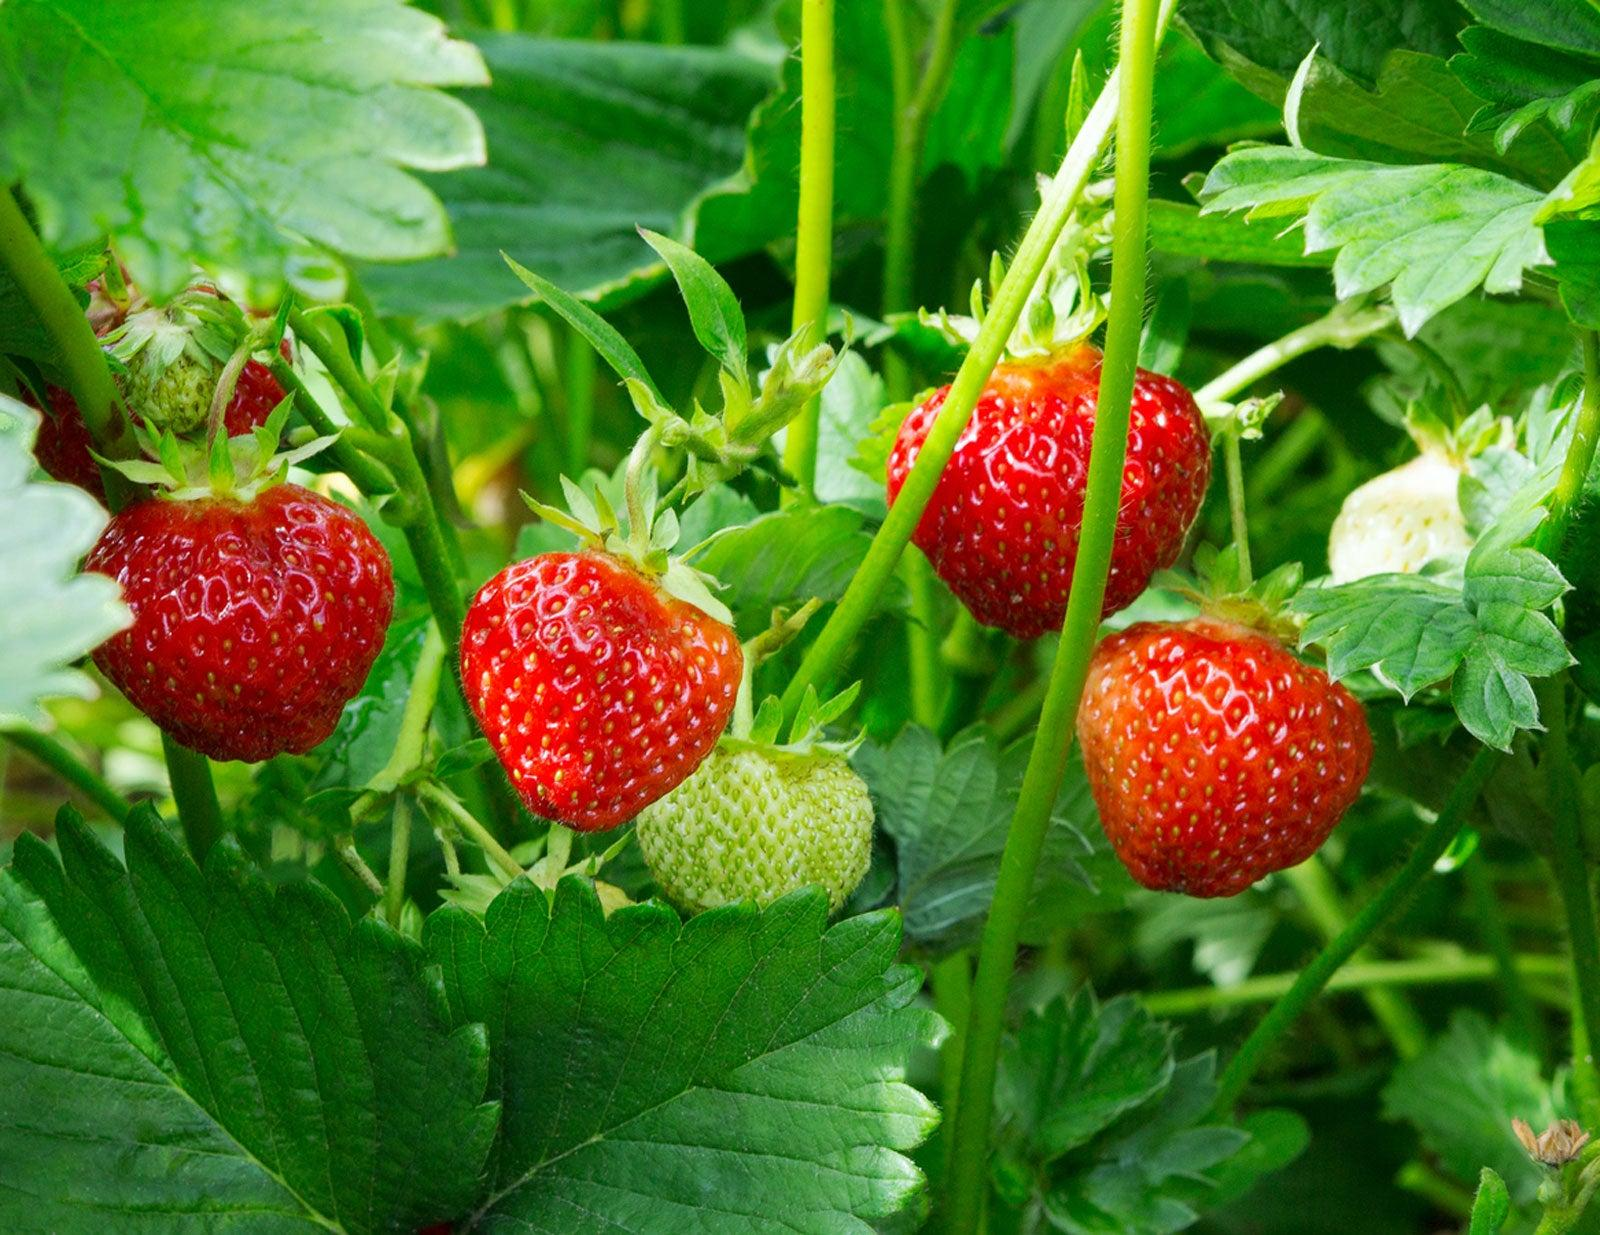strawberry: (440, 477, 768, 868), (880, 294, 1221, 633), (1080, 588, 1421, 911), (80, 450, 419, 772)
